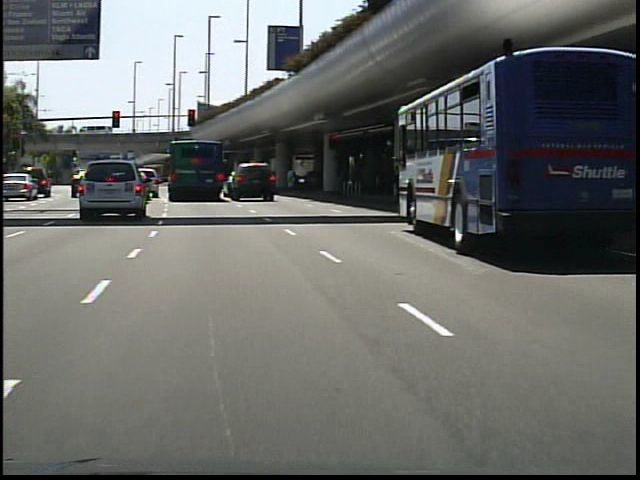person: (282, 161, 302, 198)
